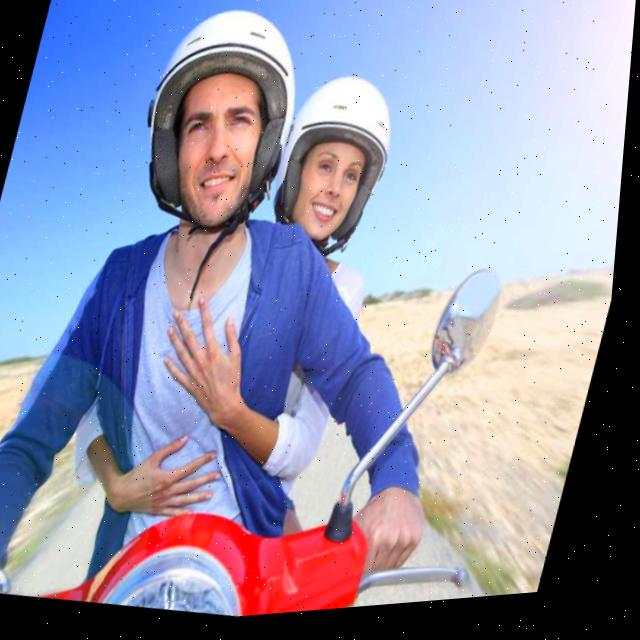helmet: (110, 0, 325, 266), (259, 61, 416, 281)
